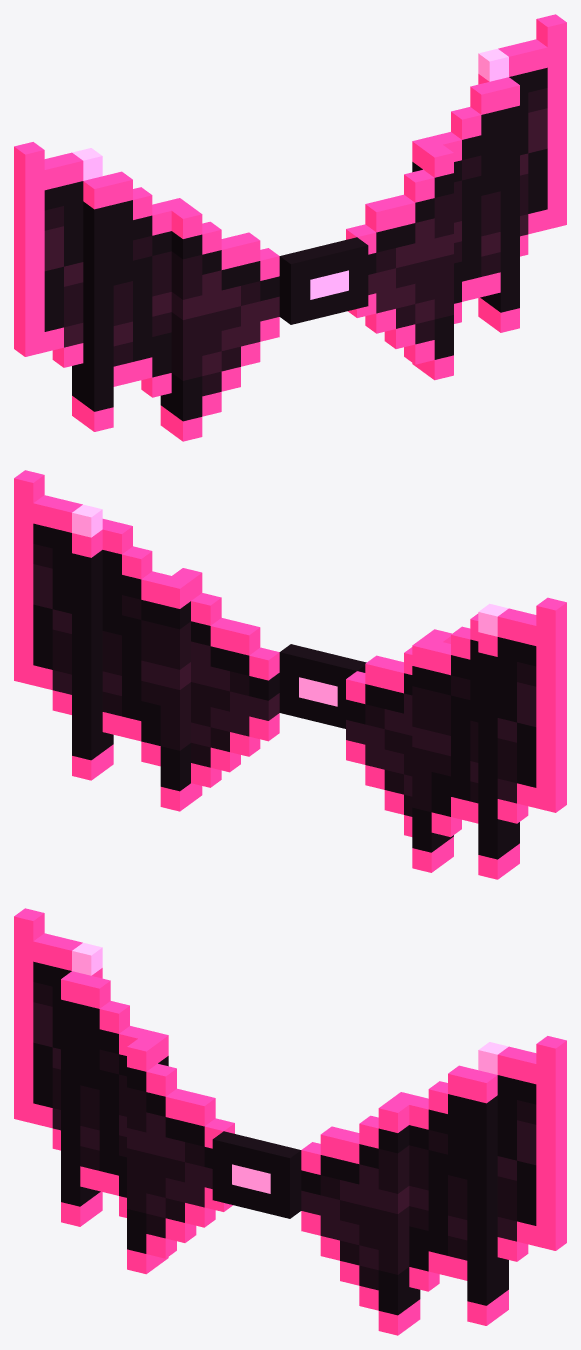
Rendered from acc_wings.glb.
3 renders of one model, top to bottom at view 1: azimuth 30°, elevation 25°; view 2: azimuth 150°, elevation 25°; view 3: azimuth 330°, elevation 25°, orthographic.
Visible parts, largest first — view 1: acc_wings; view 2: acc_wings; view 3: acc_wings.
Boxes of the visible parts, x1,y1,x2,y2 form: acc_wings: [14, 14, 566, 441]; acc_wings: [14, 470, 566, 879]; acc_wings: [14, 908, 566, 1335].
Size of the model in its own units: 1.75 by 0.9375 by 0.25.
1 material, 1 textured.
